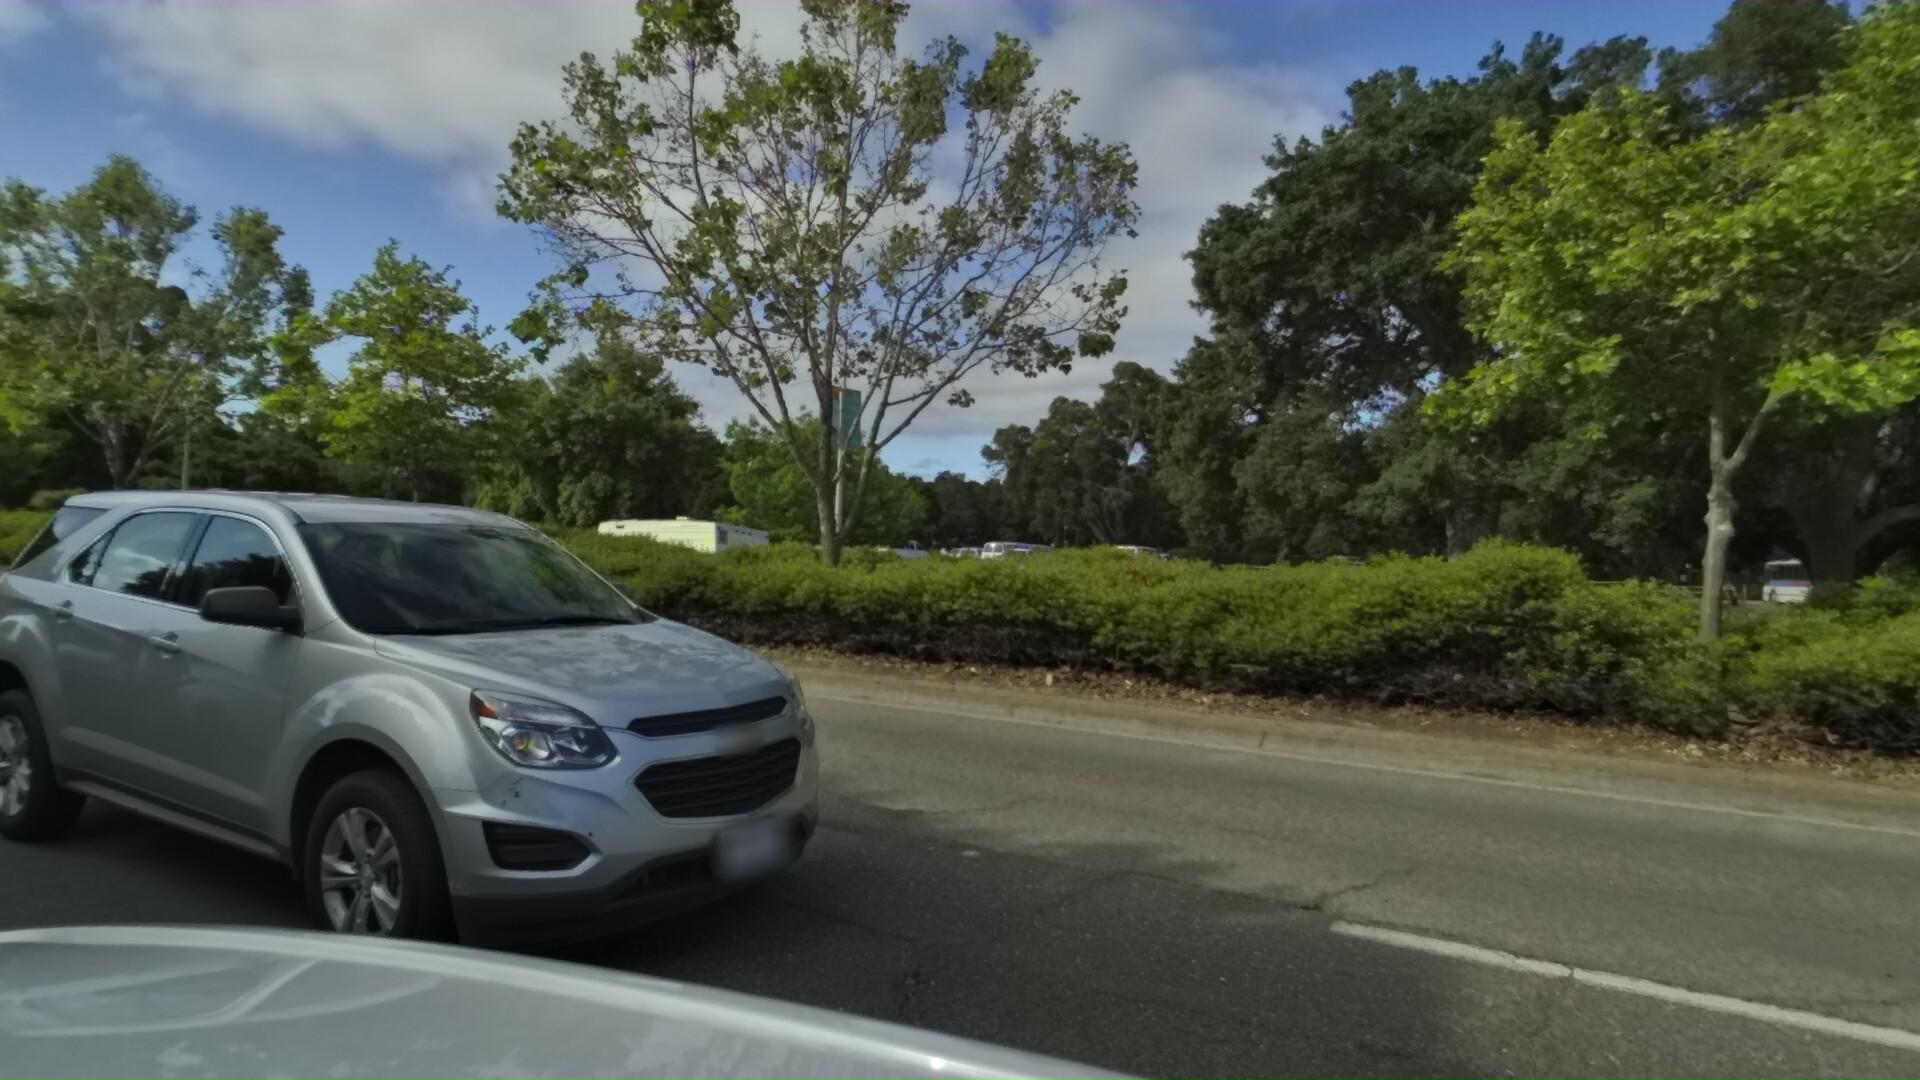car: (0, 440, 916, 1063)
other_vehicle: (559, 505, 778, 592)
